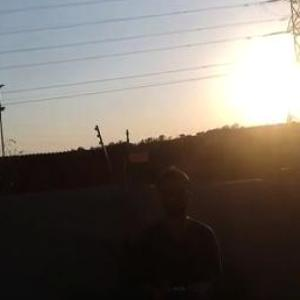follow: (131, 162, 232, 299)
